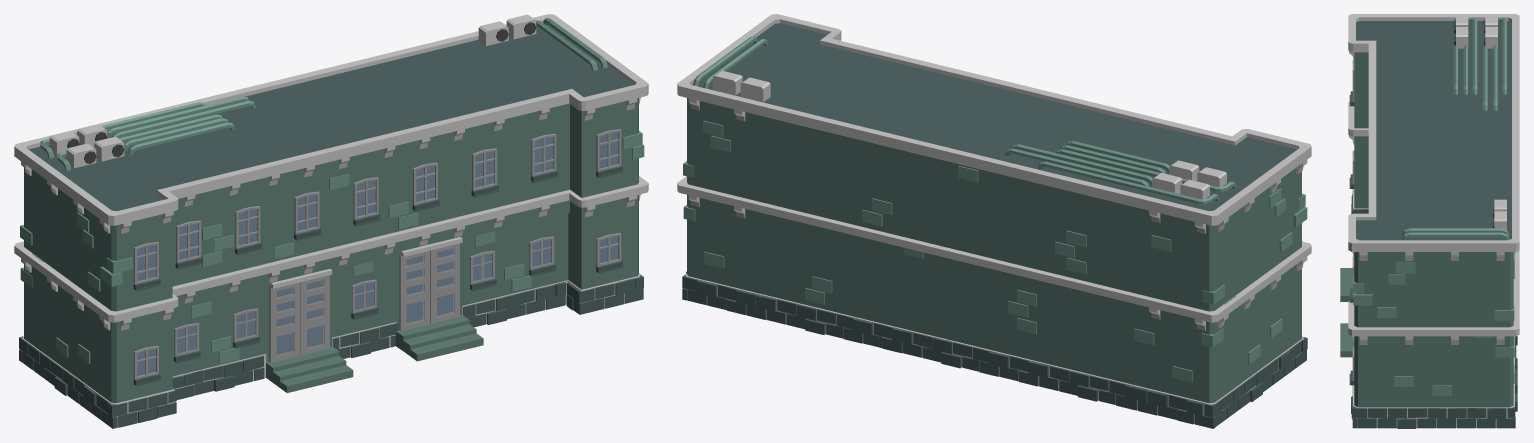
The model's file is 2Story_Wide_2Doors_Mat.glb.
3 views of the same model, side by side, from view 1: azimuth 30°, elevation 25°; view 2: azimuth 150°, elevation 25°; view 3: azimuth 270°, elevation 25° (orthographic). The views are drawn at different scales.
Parts seen in each view (by area): view 1: 2Story_Wide_2Doors_Mat; view 2: 2Story_Wide_2Doors_Mat; view 3: 2Story_Wide_2Doors_Mat.
Boxes of the visible parts, box(x1,y1,x2,y2) form: 2Story_Wide_2Doors_Mat: box(14, 14, 648, 428); 2Story_Wide_2Doors_Mat: box(677, 14, 1311, 428); 2Story_Wide_2Doors_Mat: box(1340, 14, 1519, 428).
Size of the model in its own units: 6.83 by 2.75 by 2.26.
